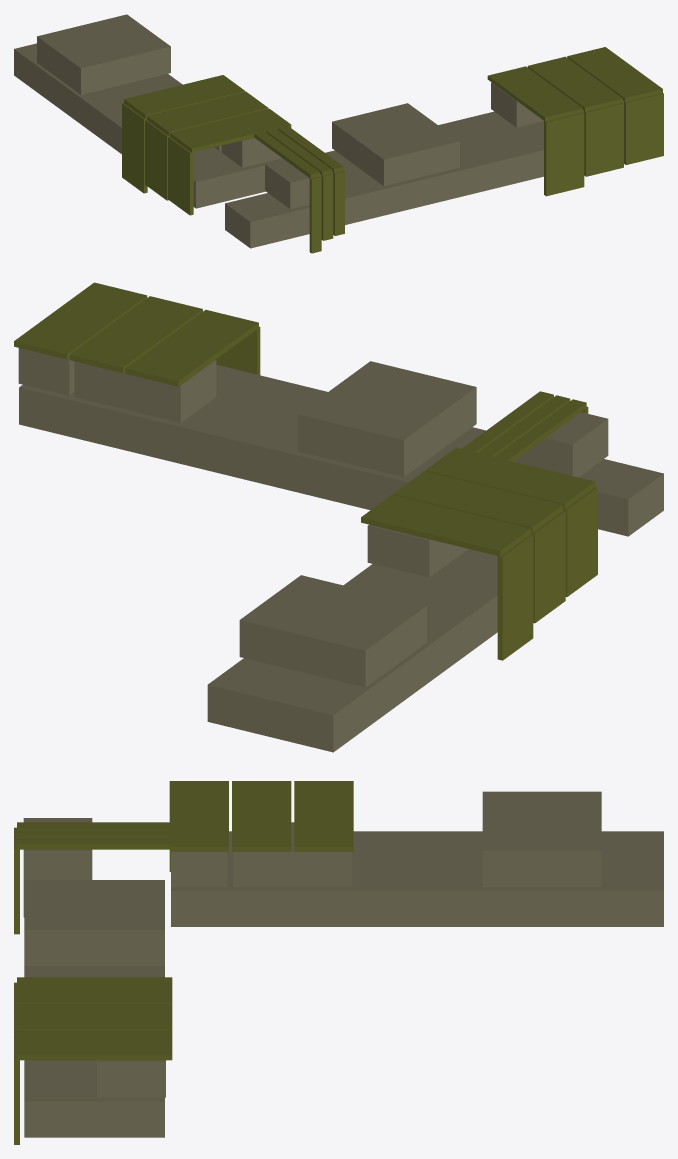
The model's file is SM_PretilEsquina_v4_Red_e2_MuyDanado_LOD1.fbx.
The picture shows the model from 3 angles, top to bottom: view 1: azimuth 30°, elevation 25°; view 2: azimuth 150°, elevation 25°; view 3: azimuth 270°, elevation 25°; orthographic projection. The views are drawn at different scales.
Visible parts, largest first — view 1: SM_pretil_azotea_v38_LOD1; view 2: SM_pretil_azotea_v38_LOD1; view 3: SM_pretil_azotea_v38_LOD1.
Part boxes in pixels (<box>): SM_pretil_azotea_v38_LOD1: <box>14,14,663,253</box>; SM_pretil_azotea_v38_LOD1: <box>14,282,663,752</box>; SM_pretil_azotea_v38_LOD1: <box>14,781,663,1144</box>.
Bounding box in the file's own units: 4.44 × 0.7939 × 4.43.
